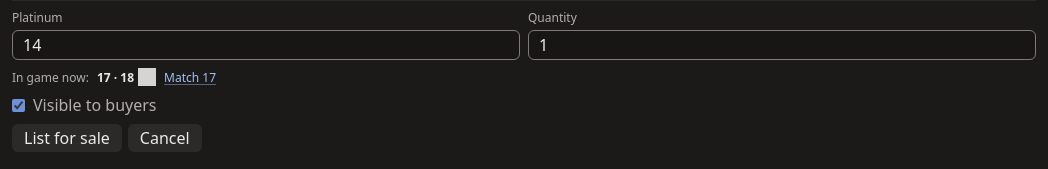
Test: the market beside the price › shows the cheapest sellers in game and matches the cheapest on one press
Expected: the text "In game now:" is shown, [12, 68, 89, 86]
Expected: the text "17 · 18" is shown, [97, 68, 156, 86]
What coordinates should you click on to do the following:
click the button "Match 17"
I would click on:
 (190, 77)
Its box is [164, 68, 216, 86].
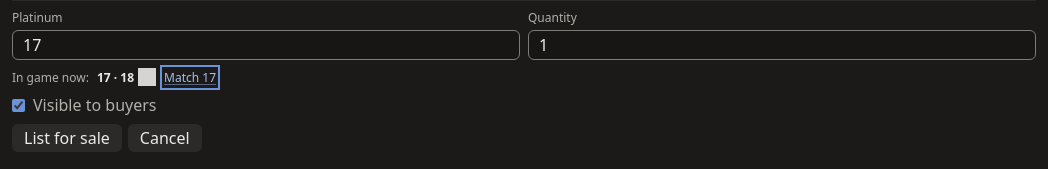
Expected: the number field labelled "Platinum" holds "17", [12, 30, 520, 60]
